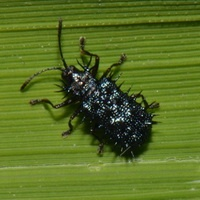insect: (20, 19, 158, 156)
